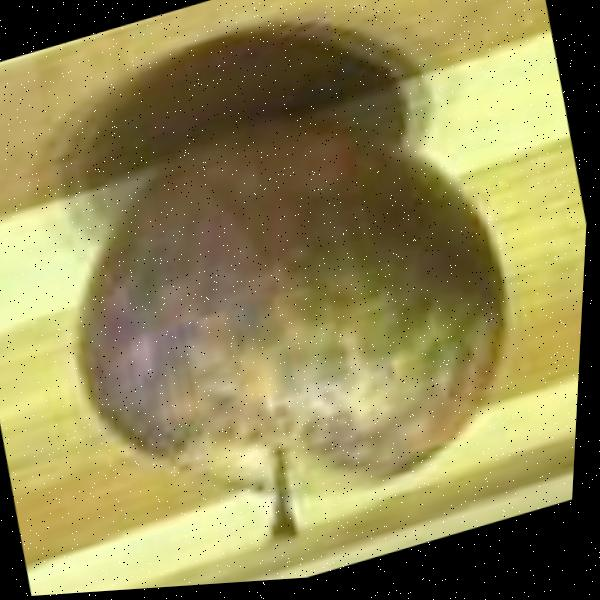BLOTCH: (0, 7, 593, 599)
